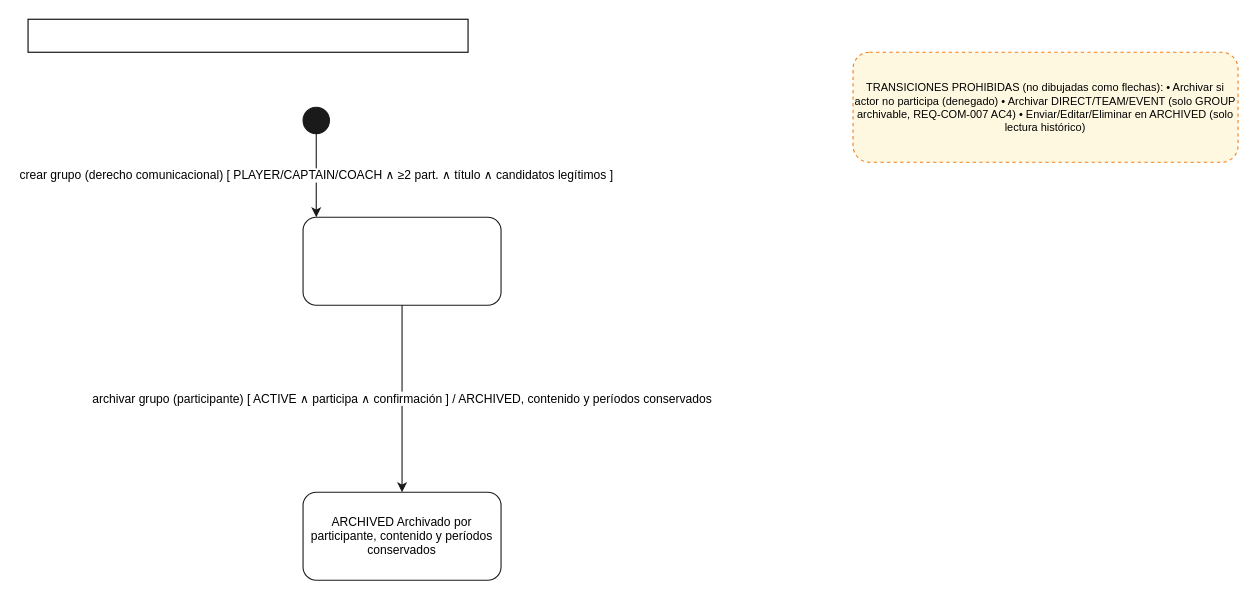
The diagram is 1257 pixels wide and 600 high, and some of its shapes have lost their labels. The shapes that lost their labels are listed below. From the top down, each one's centre as x and y in pixels, then its label:
[247,35]: Conversation (GROUP) Lifecycle
[401,260]: ACTIVE Grupo creado, ≥2 participantes, título, miembros con joined_at/left_at
